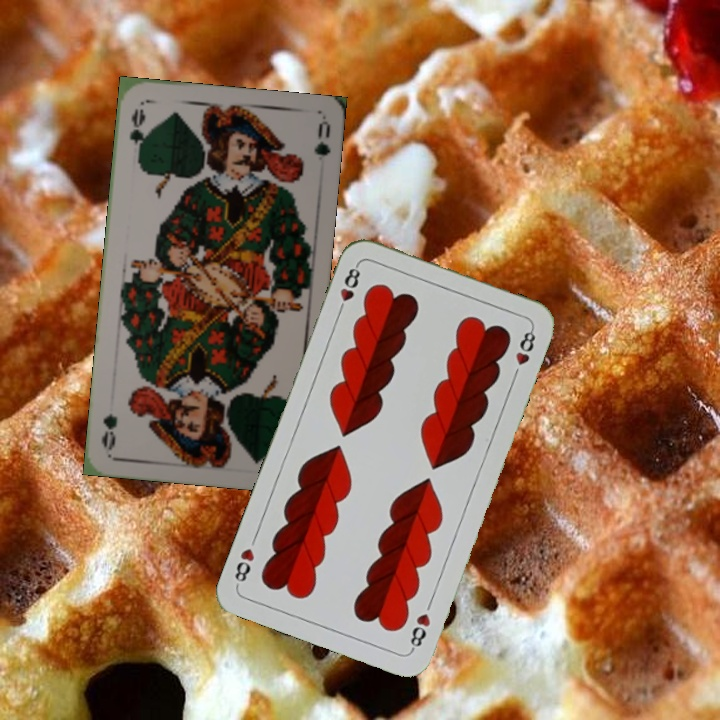GO: (125, 104, 148, 162)
H8: (334, 260, 363, 317), (406, 609, 433, 654)
